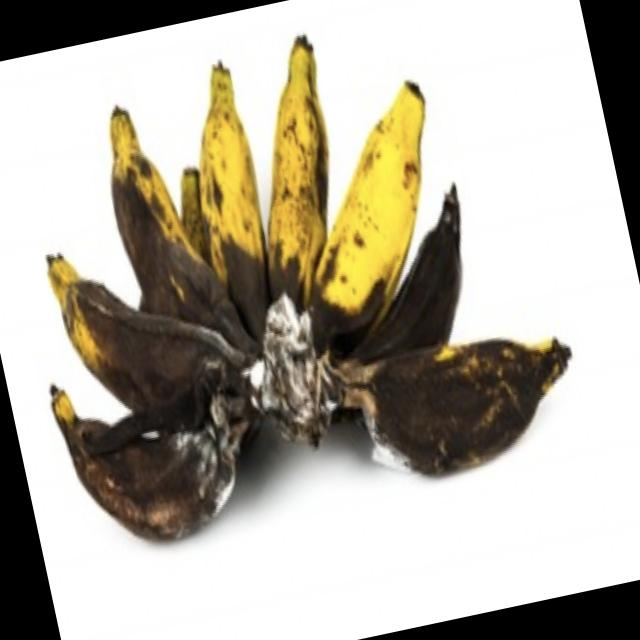rotten-banana: (298, 84, 480, 312), (352, 316, 586, 486), (169, 38, 294, 324), (233, 45, 369, 284), (64, 388, 245, 550), (46, 230, 191, 426), (101, 117, 226, 330), (368, 202, 492, 349)
